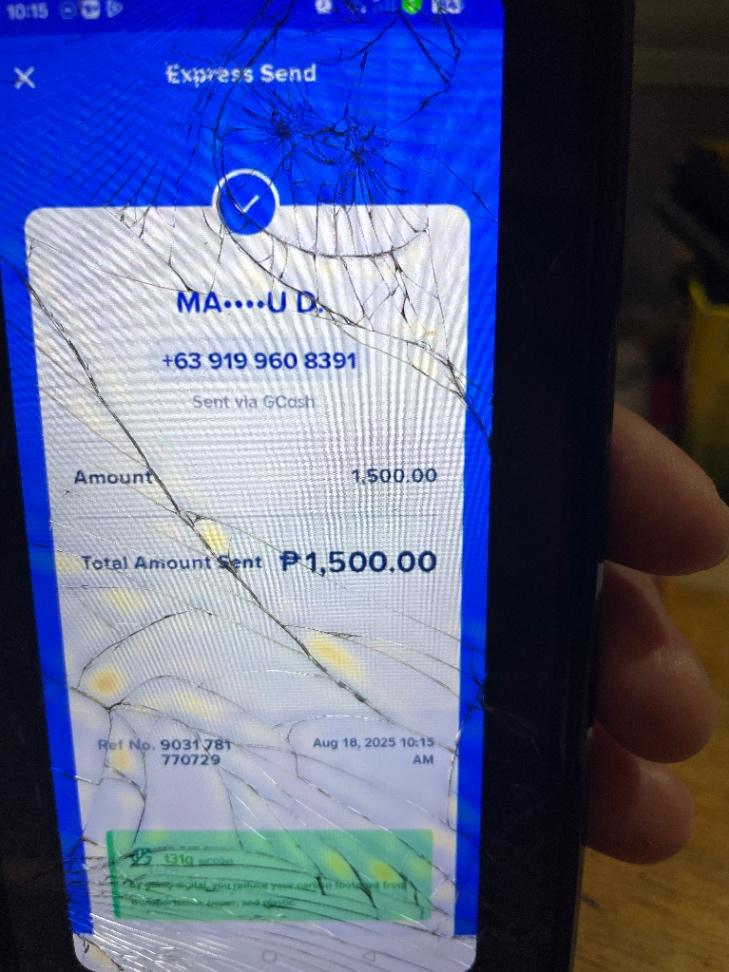Receipt: (0, 30, 505, 971)
